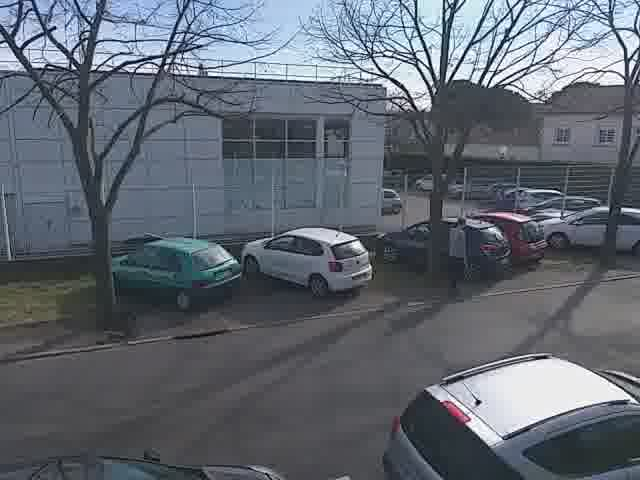persona: (438, 210, 476, 295)
